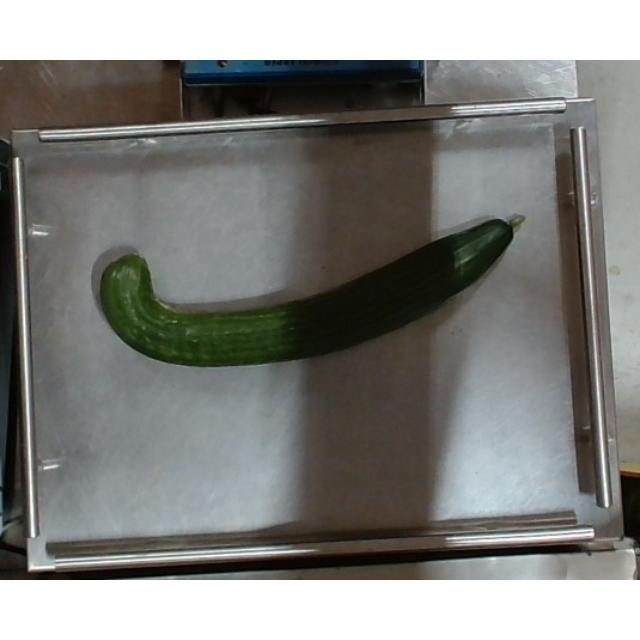cucumber: (90, 210, 534, 368)
